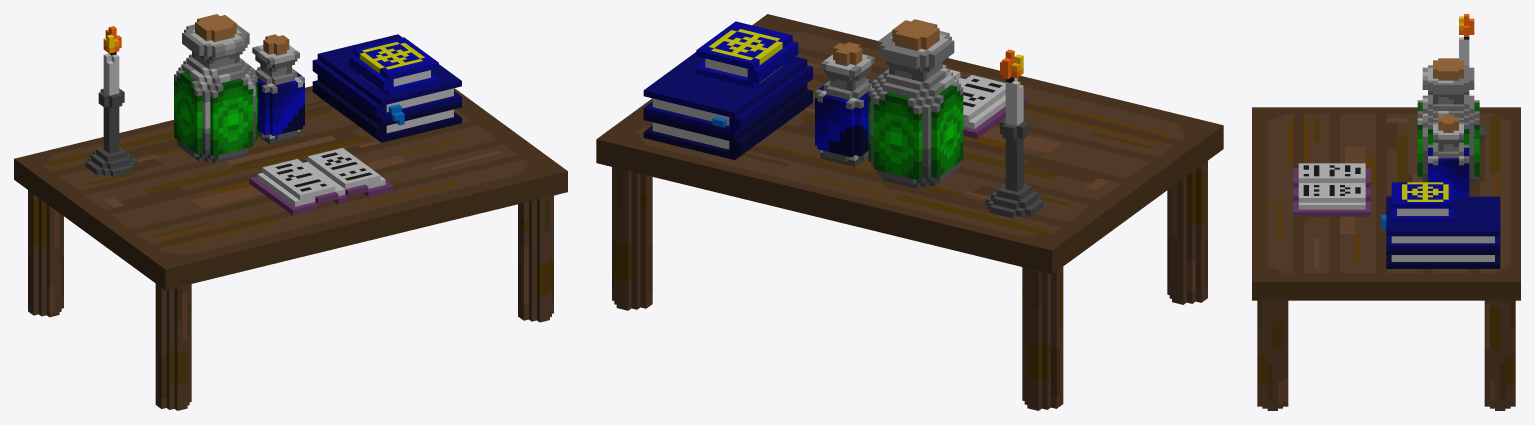
The model's file is Table.obj.
The picture shows the model from 3 angles, left to right: view 1: azimuth 30°, elevation 25°; view 2: azimuth 150°, elevation 25°; view 3: azimuth 270°, elevation 25°; orthographic projection. The views are drawn at different scales.
Size of the model in its own units: 8 by 5.4 by 5.2.
1 material, 1 textured.
